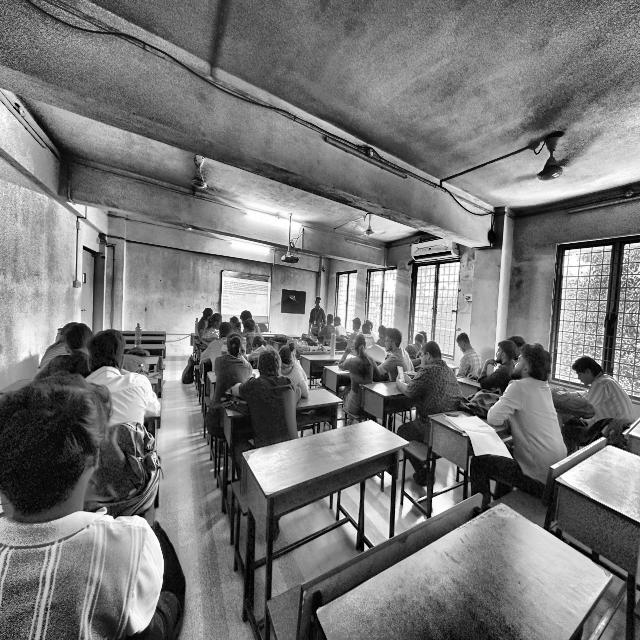Focus: (0, 377, 127, 541), (507, 344, 576, 423), (214, 328, 307, 380), (75, 312, 144, 376), (256, 342, 292, 382), (346, 316, 384, 346), (307, 294, 340, 328), (450, 332, 477, 372)
Not Focus: (571, 346, 611, 398), (450, 327, 483, 372), (345, 324, 375, 360), (413, 343, 443, 377), (380, 327, 408, 354)
